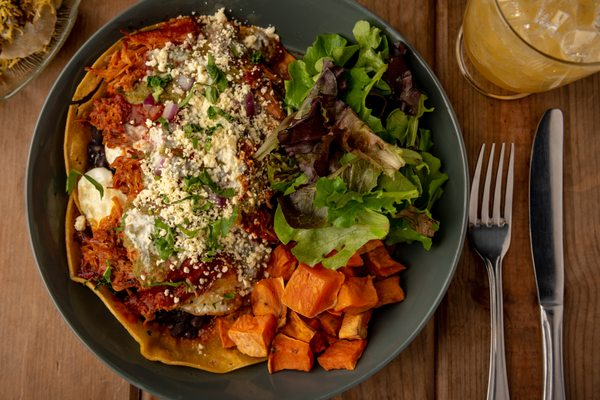burger: (469, 140, 514, 396), (526, 109, 565, 396)
pizza: (453, 0, 600, 99)
sandwich: (526, 107, 568, 393), (529, 107, 563, 319)
sushi: (14, 9, 471, 393)
